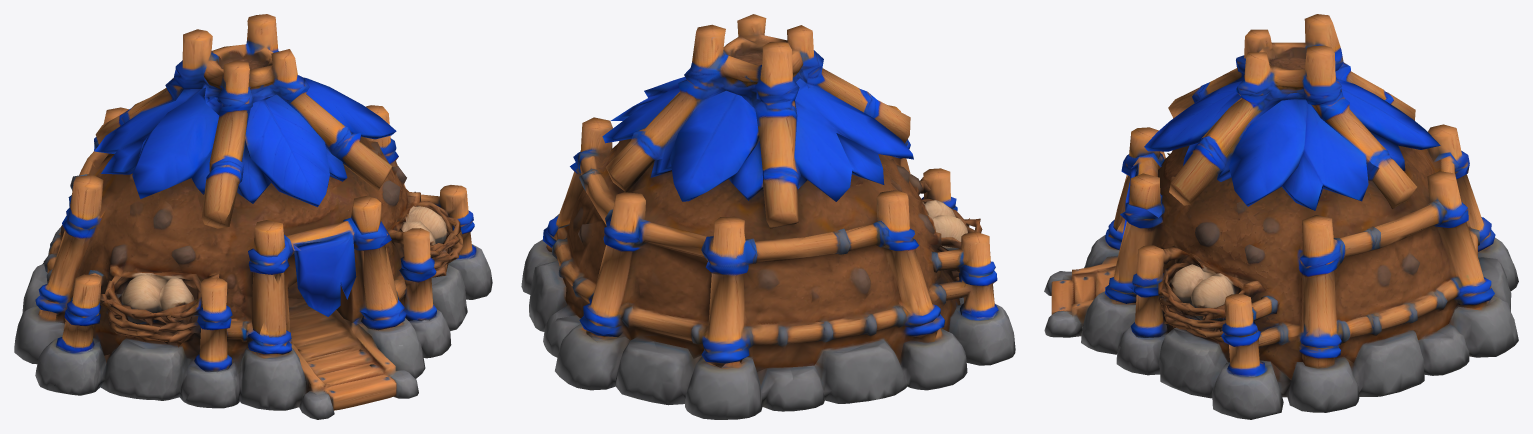
3 views of the same model, side by side, from view 1: azimuth 30°, elevation 25°; view 2: azimuth 150°, elevation 25°; view 3: azimuth 270°, elevation 25° (orthographic). The views are drawn at different scales.
Visible parts, largest first — view 1: colony-mound-tripo · evaluated preview mesh; view 2: colony-mound-tripo · evaluated preview mesh; view 3: colony-mound-tripo · evaluated preview mesh.
Boxes of the visible parts, box(x1,y1,x2,y2) form: colony-mound-tripo · evaluated preview mesh: box(14, 14, 492, 419); colony-mound-tripo · evaluated preview mesh: box(521, 14, 1015, 419); colony-mound-tripo · evaluated preview mesh: box(1044, 14, 1518, 419).
Bounding box in the file's own units: 6.2 × 3.68 × 5.73.
1 material, 1 textured.
